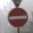No entry: (6, 6, 27, 27)
